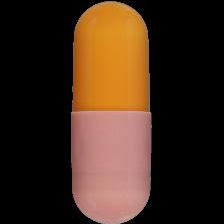68151-1334: (0, 0, 224, 224)
